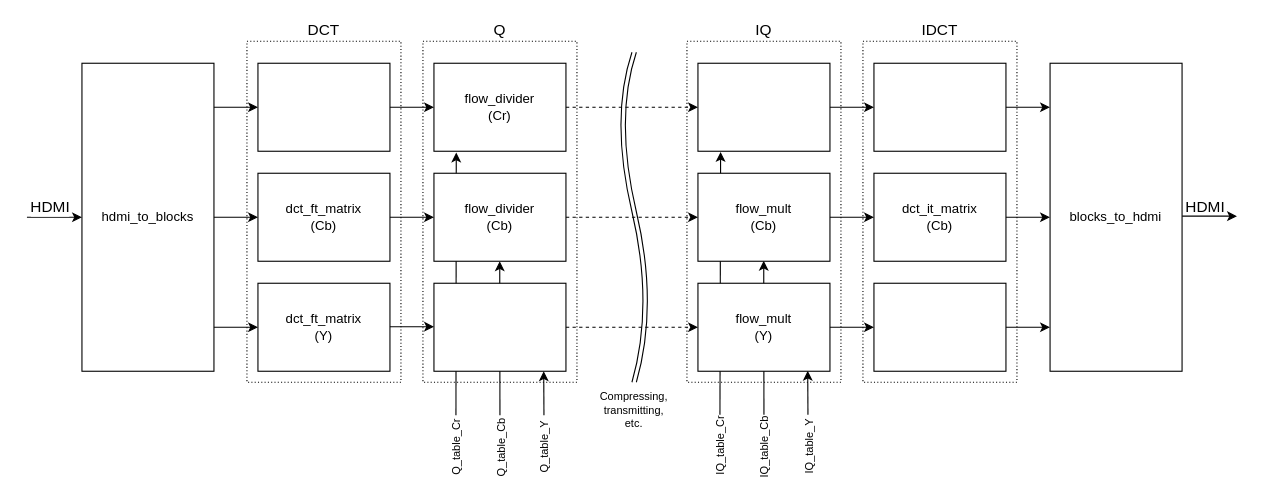
This 1265x497 diagram has some shape labels left out. Each missing label, with the centre of its shape:
"dct_ft_matrix (Cr)" belongs at (323,106).
"dct_it_matrix (Cr)" belongs at (939,106).
"dct_it_matrix (Y)" belongs at (939,326).
"flow_divider (Y)" belongs at (499,326).
"flow_mult (Cr)" belongs at (763,106).
